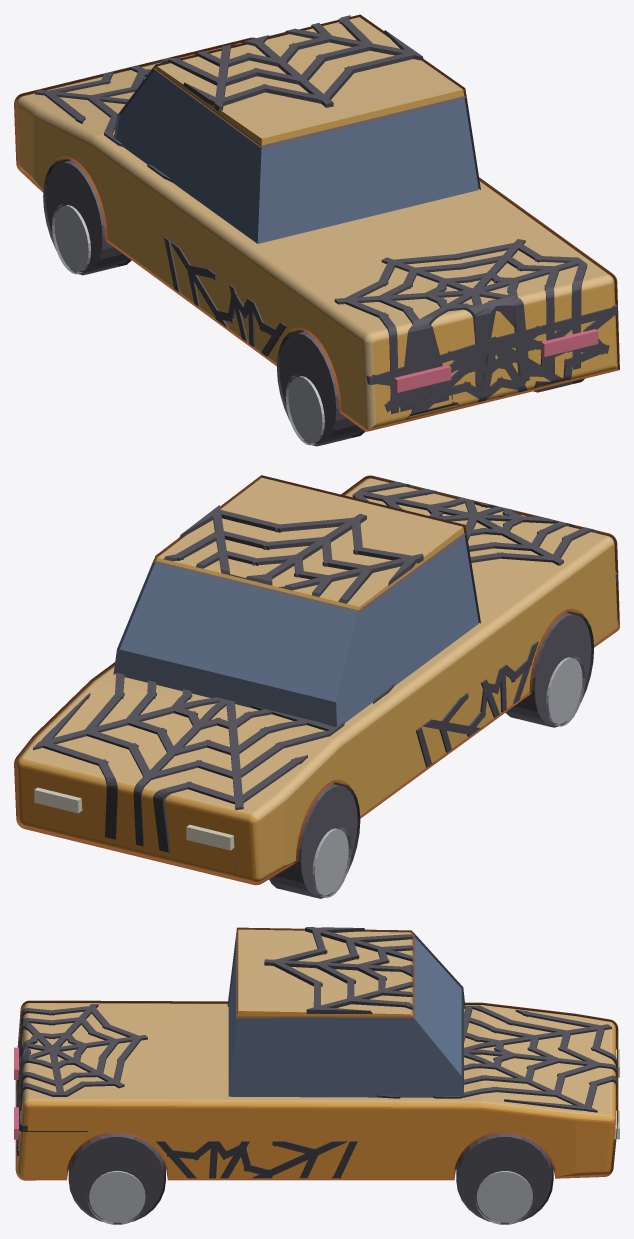
File: car_pickup.glb
3 views of the same model, one above another, from view 1: azimuth 30°, elevation 25°; view 2: azimuth 150°, elevation 25°; view 3: azimuth 270°, elevation 25° (orthographic). The views are drawn at different scales.
Parts seen in each view (by area): view 1: car; view 2: car; view 3: car.
Part boxes in pixels (bbox=[...]): car: bbox=[14, 14, 619, 446]; car: bbox=[14, 475, 619, 898]; car: bbox=[14, 927, 619, 1224].
Size of the model in its own units: 2.15 by 1.92 by 5.16.
